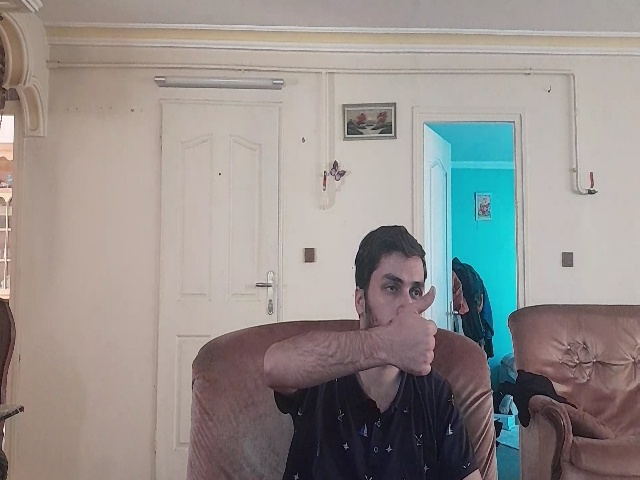ThumbsUp: (375, 283, 436, 377)
